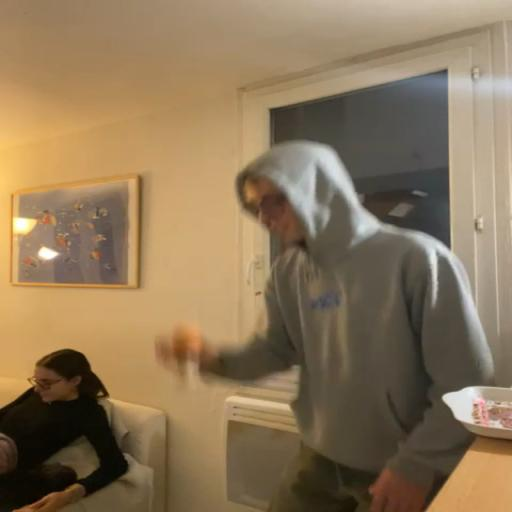kendama_ball: (172, 323, 200, 362)
